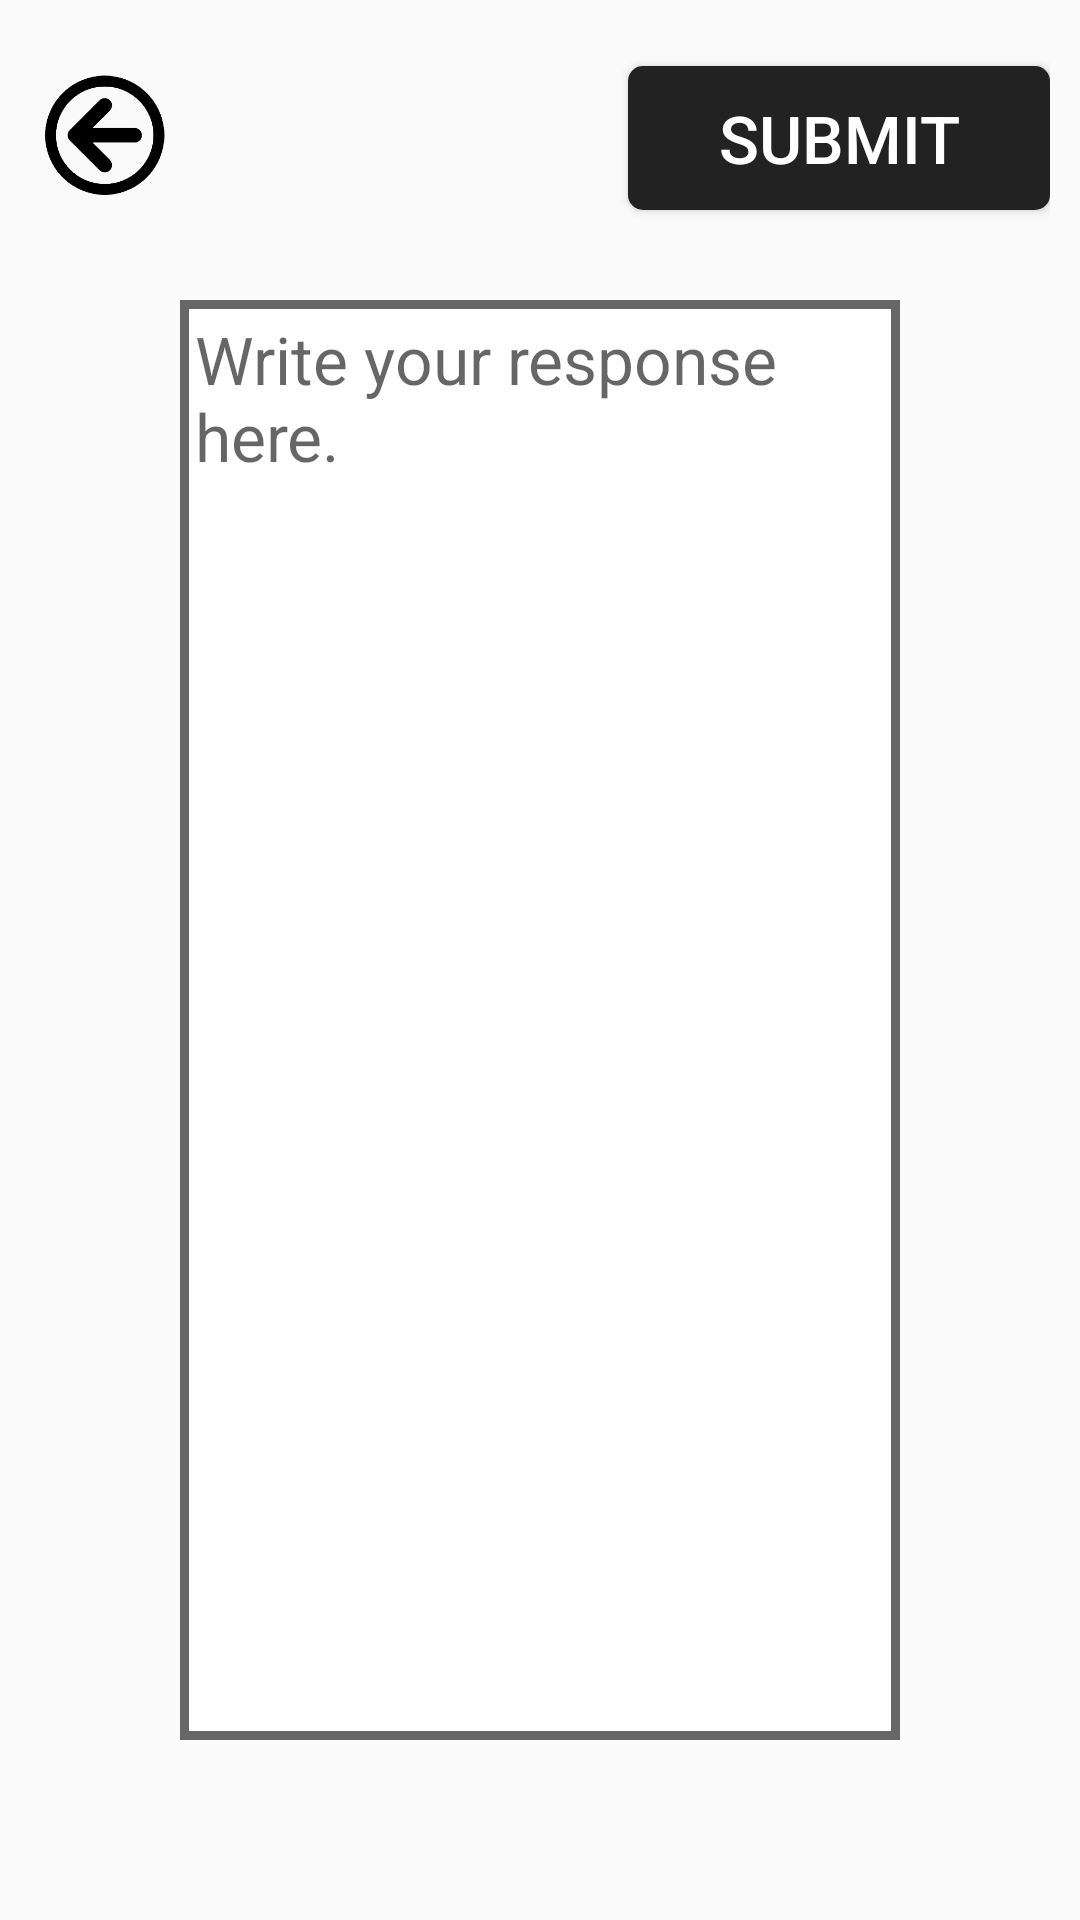

Named icons in this screenshot (1080x1920) and their centers, point (x, y):
navigation back: point (105, 135)
